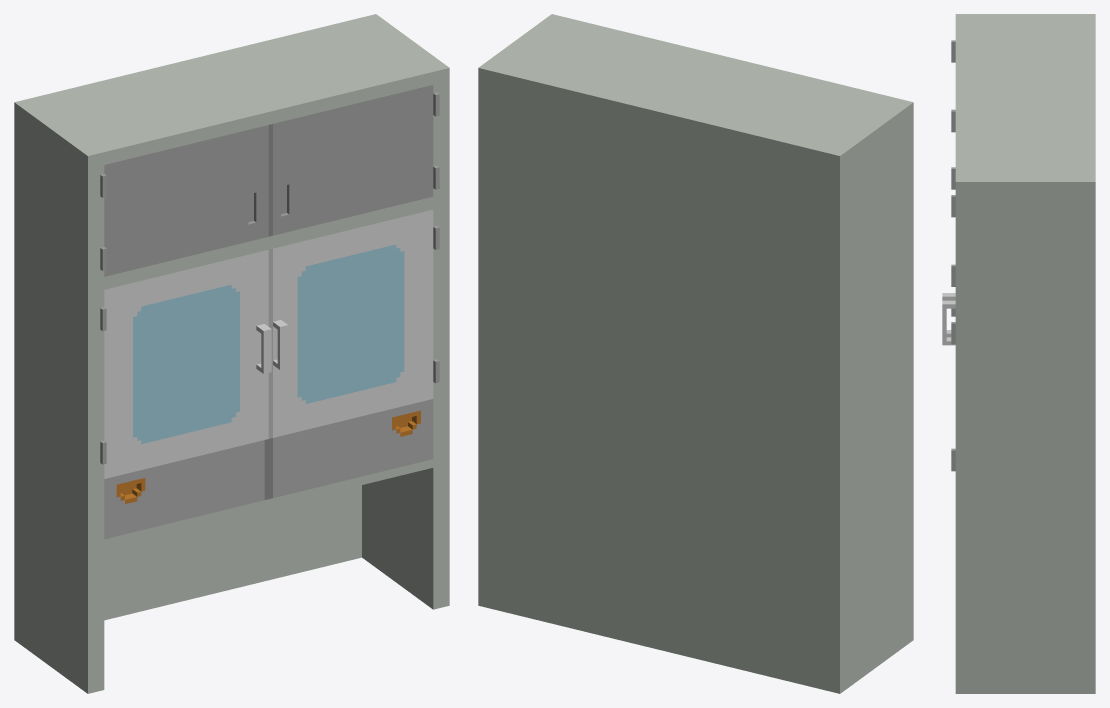
The model's file is Operating tool shelf1.fbx.
3 renders of one model, left to right at view 1: azimuth 30°, elevation 25°; view 2: azimuth 150°, elevation 25°; view 3: azimuth 270°, elevation 25°, orthographic. The views are drawn at different scales.
Parts seen in each view (by area): view 1: Operating tool shelf1.001, Operating tool shelf1.004, Operating tool shelf1.002, Operating tool shelf1, Operating tool shelf1.003; view 2: Operating tool shelf1.001; view 3: Operating tool shelf1.001, Operating tool shelf1.004.
Part boxes in pixels (bbox=[...]): Operating tool shelf1.001: bbox=[14, 14, 449, 693]; Operating tool shelf1.004: bbox=[268, 209, 433, 438]; Operating tool shelf1.002: bbox=[104, 250, 271, 478]; Operating tool shelf1: bbox=[297, 244, 404, 403]; Operating tool shelf1.003: bbox=[133, 284, 239, 444]; Operating tool shelf1.001: bbox=[478, 14, 913, 693]; Operating tool shelf1.001: bbox=[951, 14, 1095, 693]; Operating tool shelf1.004: bbox=[942, 300, 955, 345].
Size of the model in its own units: 880 by 1250 by 340.
